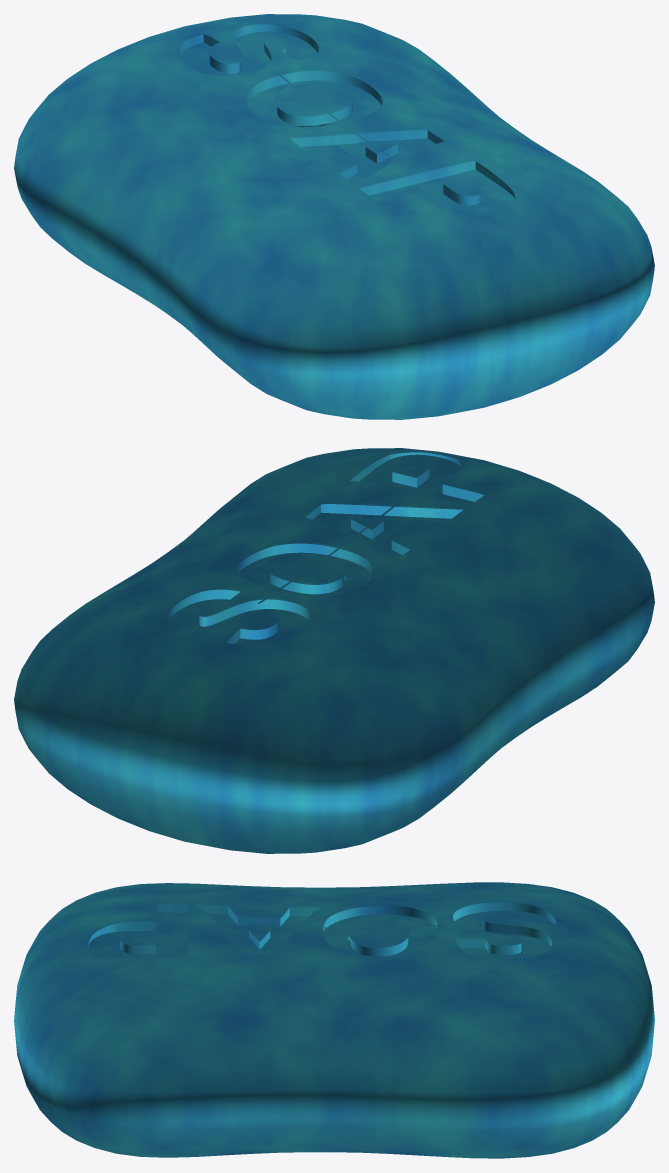
File: soap.obj
3 renders of one model, top to bottom at view 1: azimuth 30°, elevation 25°; view 2: azimuth 150°, elevation 25°; view 3: azimuth 270°, elevation 25°, orthographic. The views are drawn at different scales.
Parts seen in each view (by area): view 1: obj1; view 2: obj1; view 3: obj1.
Part boxes in pixels (x1,y1,x2,y2): obj1: (14,14,654,419); obj1: (14,448,654,853); obj1: (14,882,654,1158).
Bounding box in the file's own units: 48.81 × 23.32 × 70.63.
